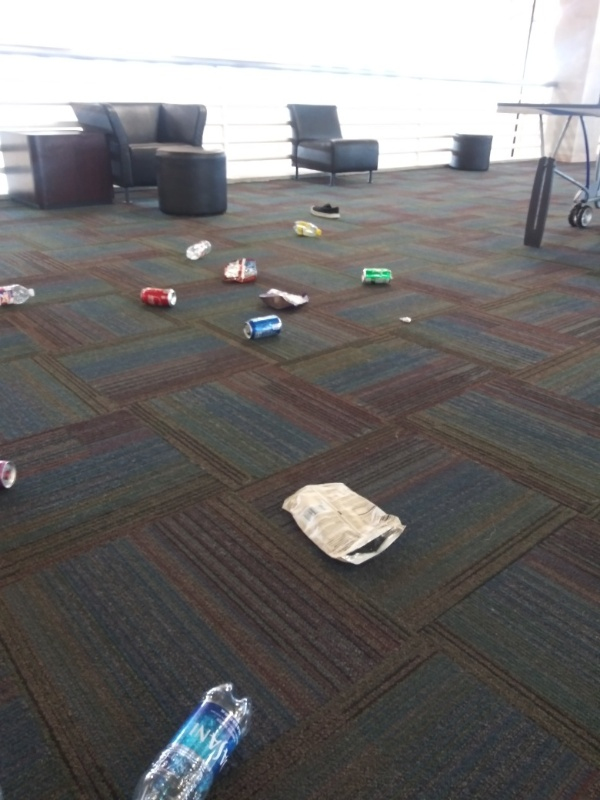bag: (277, 478, 409, 574), (253, 282, 312, 311), (218, 256, 266, 284)
bottle: (129, 678, 260, 800), (1, 282, 43, 310), (182, 236, 216, 263), (290, 216, 324, 239)
can: (238, 312, 286, 342), (131, 283, 179, 310), (357, 263, 396, 288), (1, 455, 21, 492)
